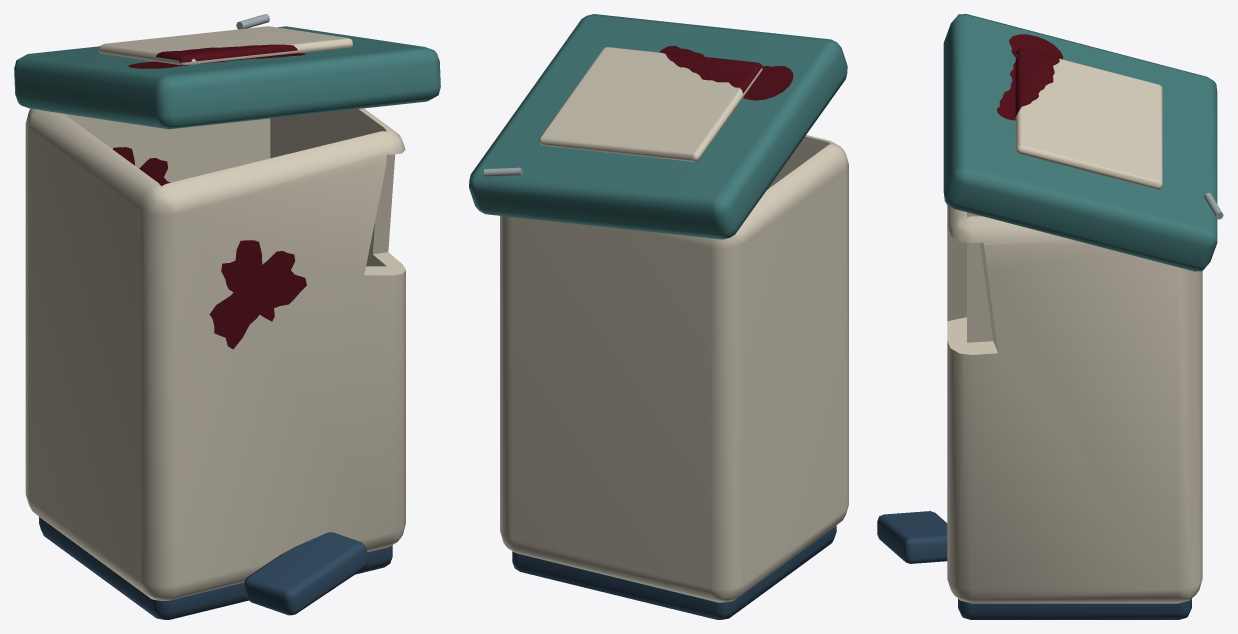
Rendered from pedal_bin.glb.
3 renders of one model, left to right at view 1: azimuth 30°, elevation 25°; view 2: azimuth 150°, elevation 25°; view 3: azimuth 270°, elevation 25°, orthographic. The views are drawn at different scales.
Parts seen in each view (by area): view 1: OB_StaffPedalBin_01_Static; view 2: OB_StaffPedalBin_01_Static; view 3: OB_StaffPedalBin_01_Static.
Boxes of the visible parts, x1,y1,x2,y2 form: OB_StaffPedalBin_01_Static: (14,14,440,619); OB_StaffPedalBin_01_Static: (469,14,848,619); OB_StaffPedalBin_01_Static: (877,14,1223,619).
Size of the model in its own units: 0.3718 by 0.657 by 0.407.
